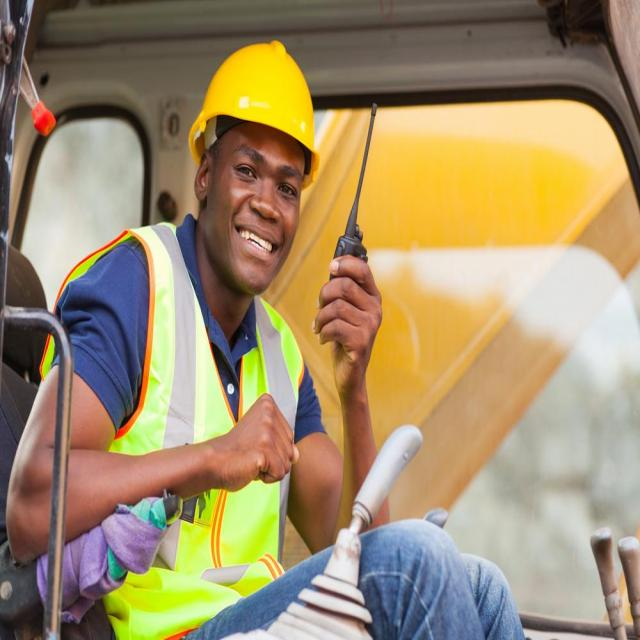Reflective-Jacket: (47, 228, 305, 604)
Safety-Helmet: (186, 36, 326, 178)
